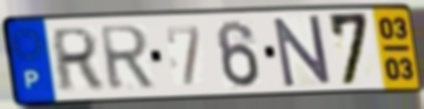6: (214, 18, 262, 89)
7: (326, 11, 373, 89), (165, 24, 203, 87)
N: (271, 12, 334, 90)
R: (96, 23, 157, 94), (50, 25, 104, 95)
